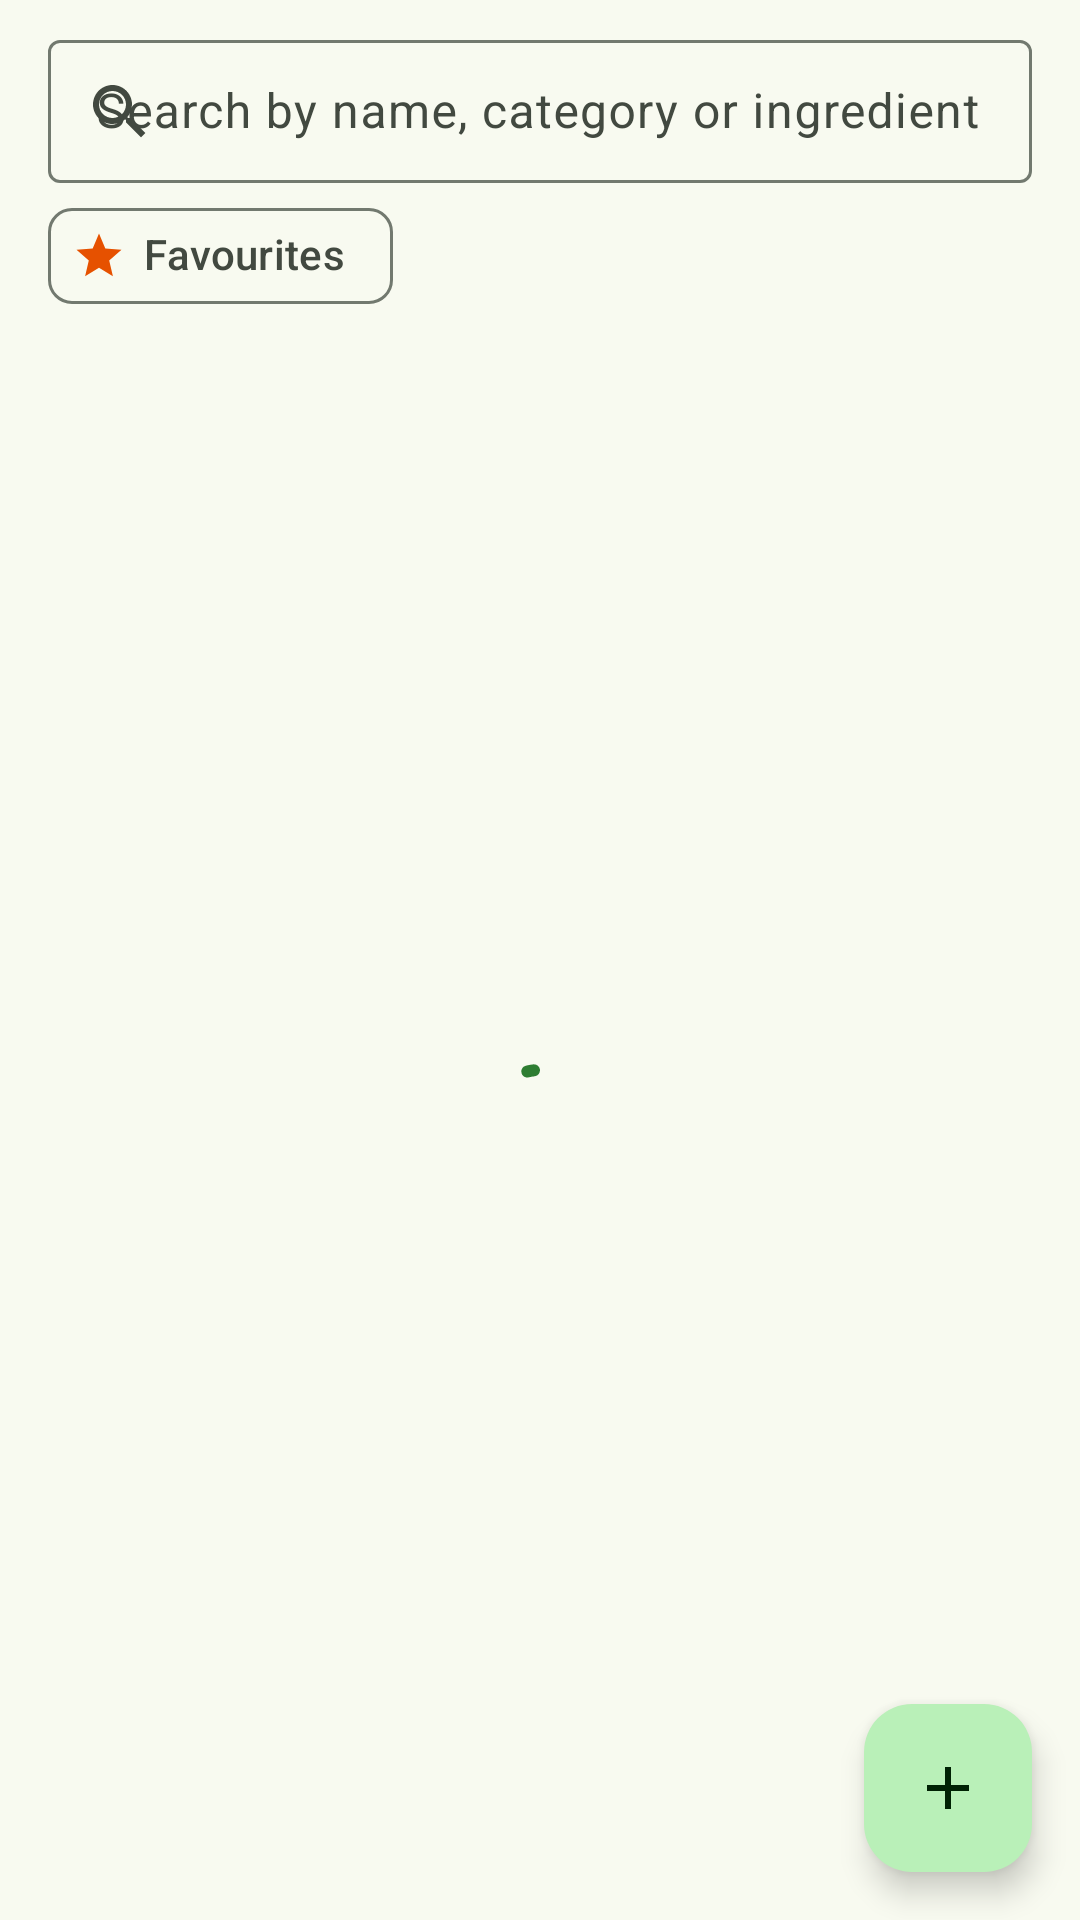

Icon click points for this 1080px×1920px phone screenshot, format point (x, y):
New recipe: point (948, 1788)
